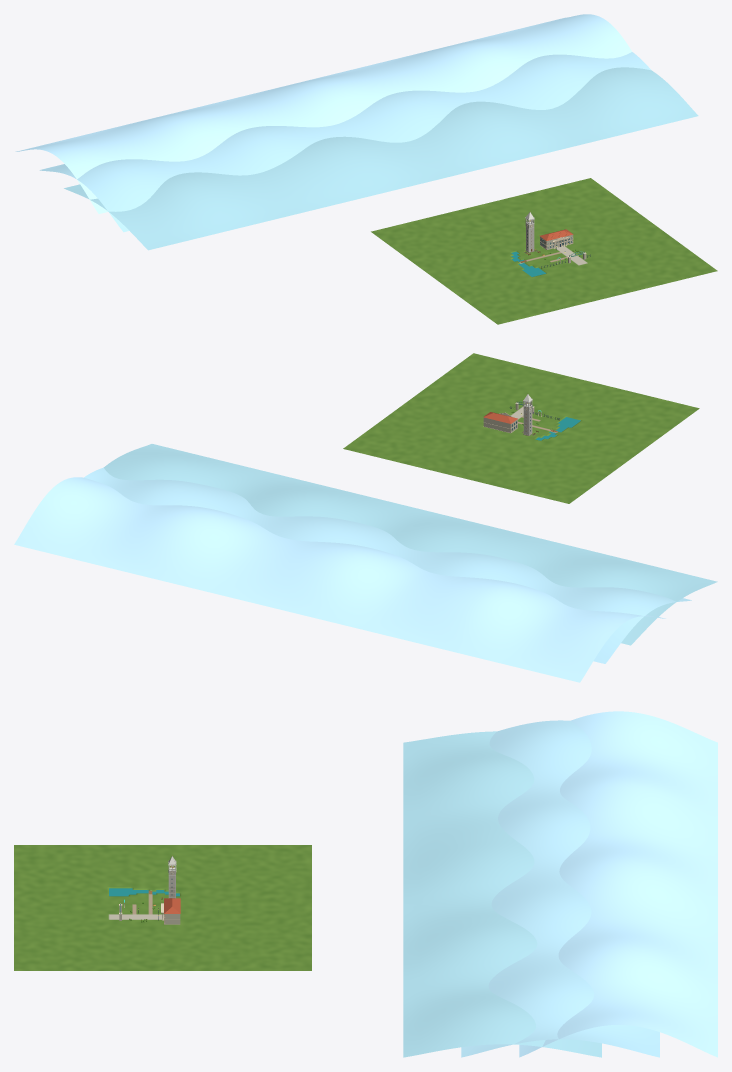
File: campus.glb
3 views of the same model, one above another, from view 1: azimuth 30°, elevation 25°; view 2: azimuth 150°, elevation 25°; view 3: azimuth 270°, elevation 25° (orthographic). The views are drawn at different scales.
Parts seen in each view (by area): view 1: sather-tower campus architecture, Campus Terrain berkeley.001; view 2: sather-tower campus architecture, Campus Terrain berkeley.001; view 3: sather-tower campus architecture, Campus Terrain berkeley.001.
Part boxes in pixels (left/top/right/bottom): sather-tower campus architecture: left=15, top=14, right=698, bottom=276; Campus Terrain berkeley.001: left=371, top=178, right=717, bottom=324; sather-tower campus architecture: left=14, top=394, right=717, bottom=682; Campus Terrain berkeley.001: left=343, top=353, right=699, bottom=503; sather-tower campus architecture: left=109, top=711, right=717, bottom=1057; Campus Terrain berkeley.001: left=14, top=845, right=311, bottom=970.
Bounding box in the file's own units: 450 × 33.25 × 425.
